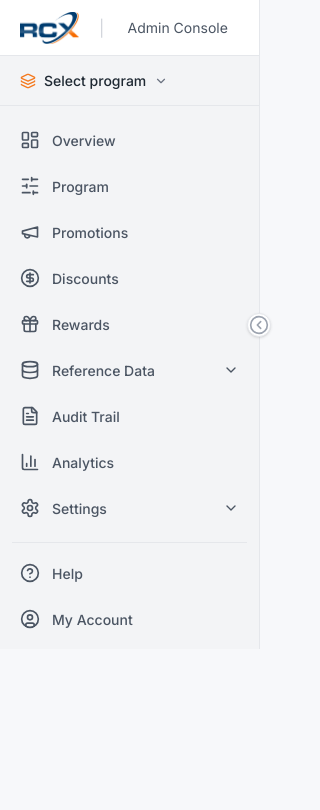
Scenario: Sidebar › collapses children when parent is clicked again
This screenshot has width=320, height=810.
Click the button with test id "nav-sidebar-reference-data".
click(130, 370)  # box [8,348,251,392]
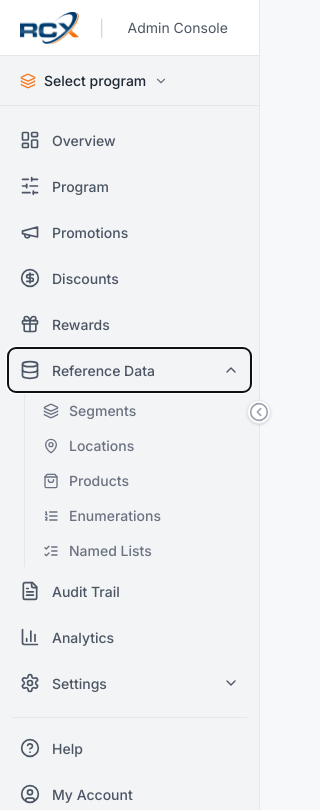
expect the link with test id "nav-sidebar-segments" is shown: met, box [43,402,136,419]
Click the button with test id "nav-sidebar-reference-data".
click(130, 370)  # box [8,348,251,392]
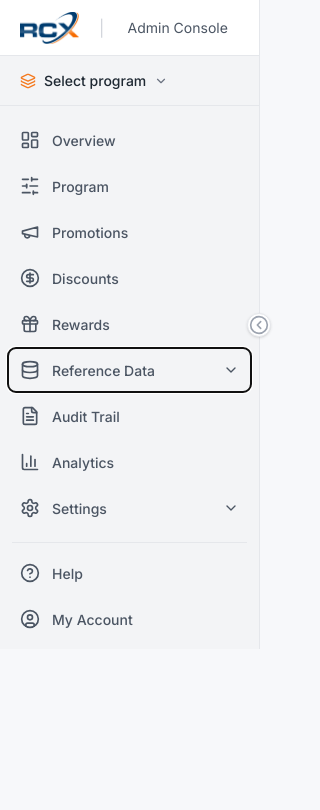
expect the link with test id "nav-sidebar-segments" is gone: met
